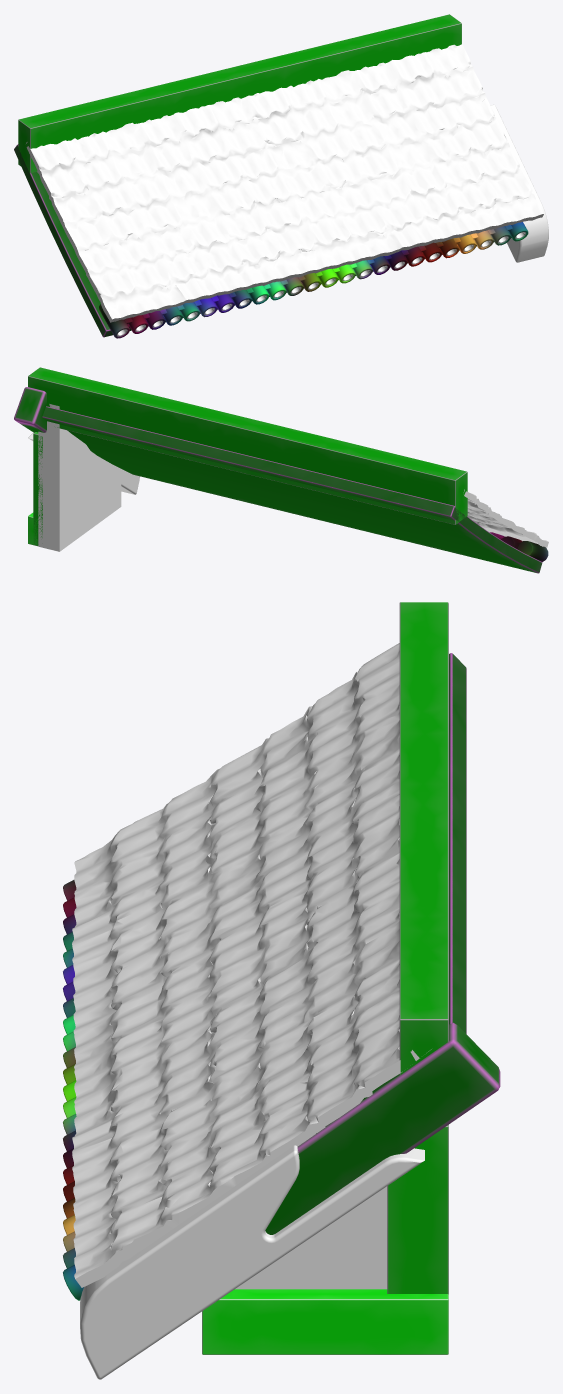
The model's file is roof_side_400x100_01_right.fbx.
3 views of the same model, one above another, from view 1: azimuth 30°, elevation 25°; view 2: azimuth 150°, elevation 25°; view 3: azimuth 270°, elevation 25° (orthographic). The views are drawn at different scales.
Visible parts, largest first — view 1: roof_side_400x100_01_right; view 2: roof_side_400x100_01_right; view 3: roof_side_400x100_01_right.
Boxes of the visible parts, x1,y1,x2,y2 form: roof_side_400x100_01_right: (14,14,548,338); roof_side_400x100_01_right: (14,367,548,573); roof_side_400x100_01_right: (63,602,500,1379).
Bounding box in the file's own units: 4.06 × 1.59 × 1.77.
